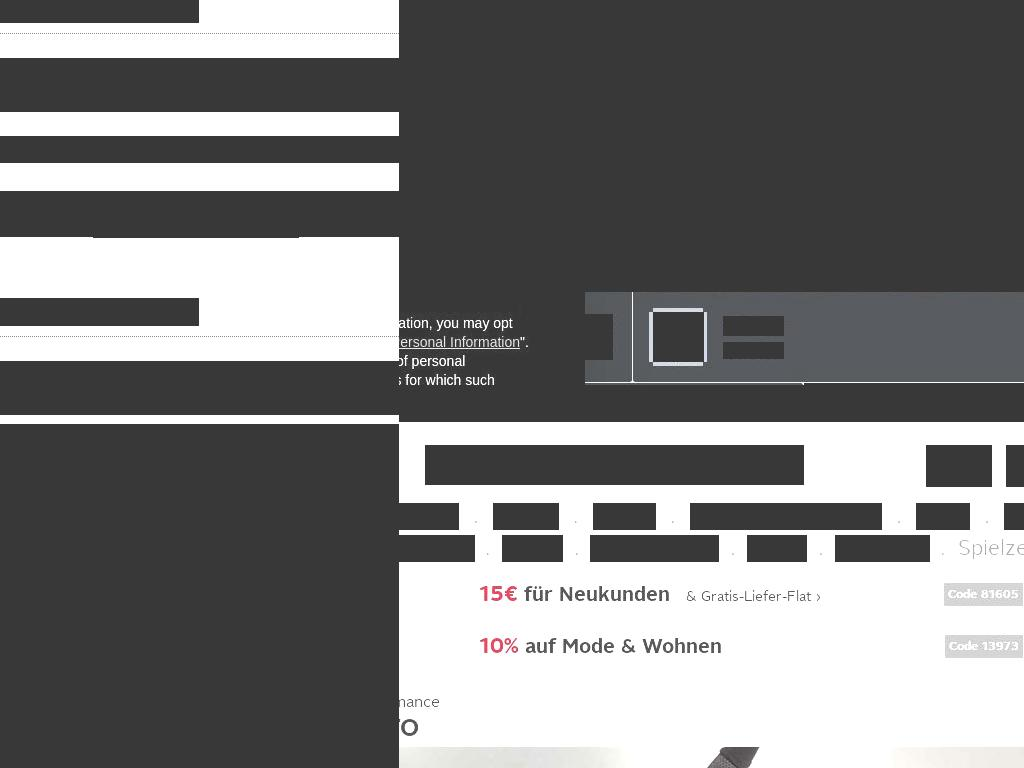button: (633, 0, 1024, 292), (399, 0, 633, 292), (399, 691, 1024, 768), (690, 503, 882, 530), (93, 218, 299, 238), (590, 535, 719, 562), (528, 238, 613, 272), (926, 445, 992, 487), (835, 535, 930, 562), (653, 312, 704, 362), (529, 242, 577, 290), (399, 535, 475, 562), (957, 535, 1024, 562), (493, 503, 559, 530), (593, 503, 656, 530), (502, 535, 563, 562), (763, 445, 804, 485), (976, 238, 1024, 272), (399, 503, 459, 530), (747, 535, 807, 562), (916, 503, 970, 530), (334, 191, 399, 211), (1004, 503, 1024, 530)
field: (425, 445, 804, 485)
heading: (462, 385, 804, 422), (804, 383, 1024, 422), (0, 298, 199, 326), (0, 0, 199, 23), (723, 316, 784, 336), (723, 342, 784, 359)
image: (0, 424, 399, 768), (0, 431, 399, 768), (633, 0, 1024, 292), (399, 0, 633, 292), (653, 312, 704, 362)
link: (399, 334, 520, 350), (432, 391, 516, 407)
text: (0, 685, 399, 768), (0, 58, 399, 112), (0, 361, 399, 415), (399, 713, 1024, 743), (0, 191, 399, 237), (399, 691, 1024, 713), (0, 136, 399, 163), (0, 191, 334, 210), (399, 353, 495, 407), (690, 504, 882, 528), (525, 635, 722, 657), (399, 315, 513, 350), (524, 583, 670, 605), (590, 536, 719, 560), (686, 587, 821, 606), (399, 260, 529, 279), (835, 536, 930, 560), (399, 296, 519, 312), (299, 218, 399, 237), (926, 445, 992, 473), (399, 536, 475, 560), (944, 583, 1023, 606), (945, 635, 1023, 658), (540, 314, 613, 337), (540, 337, 613, 360), (957, 536, 1024, 560), (493, 504, 559, 528), (593, 504, 656, 528), (502, 536, 563, 560), (399, 504, 459, 528), (747, 536, 807, 560), (916, 504, 970, 528), (479, 632, 525, 660), (479, 580, 524, 608), (926, 473, 992, 487), (771, 452, 796, 477), (1006, 445, 1024, 473), (1004, 504, 1024, 528), (1006, 473, 1024, 487), (520, 334, 530, 350), (515, 391, 519, 407)
